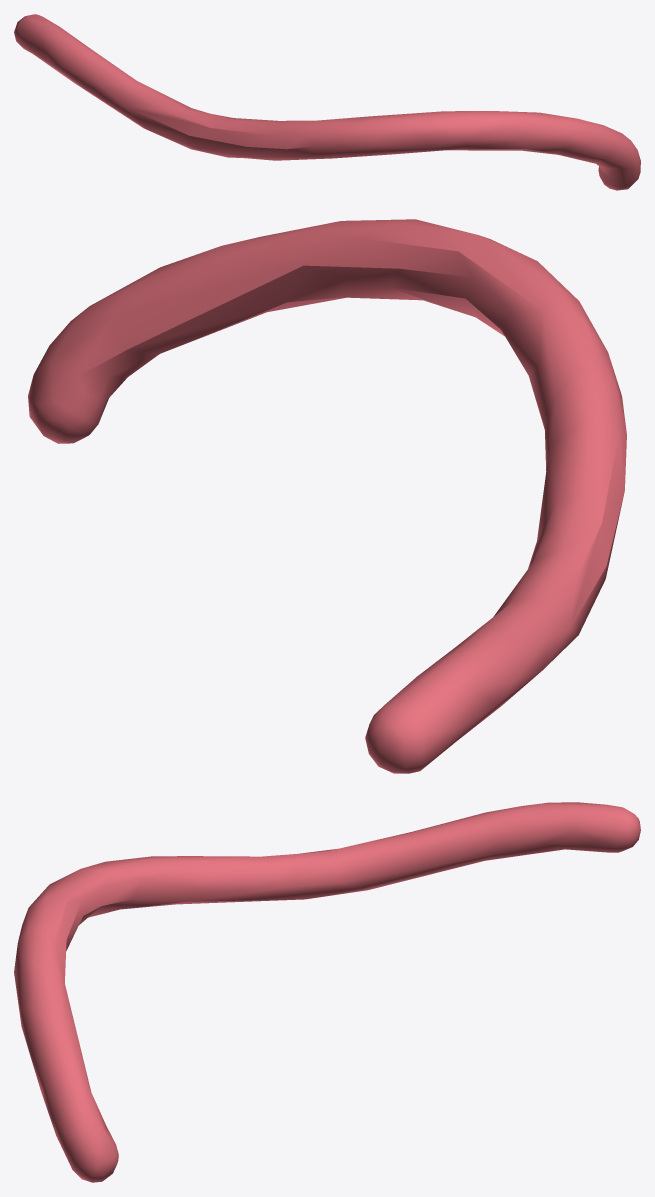
File: fma86076_fj5199.glb
3 renders of one model, top to bottom at view 1: azimuth 30°, elevation 25°; view 2: azimuth 150°, elevation 25°; view 3: azimuth 270°, elevation 25°, orthographic. The views are drawn at different scales.
Parts seen in each view (by area): view 1: FMA86076_FJ5199; view 2: FMA86076_FJ5199; view 3: FMA86076_FJ5199.
Boxes of the visible parts, <box> form: FMA86076_FJ5199: <box>14,14,640,190</box>; FMA86076_FJ5199: <box>28,219,626,773</box>; FMA86076_FJ5199: <box>14,802,640,1182</box>.
Size of the model in its own units: 0.0221 by 0.0069 by 0.0233.
